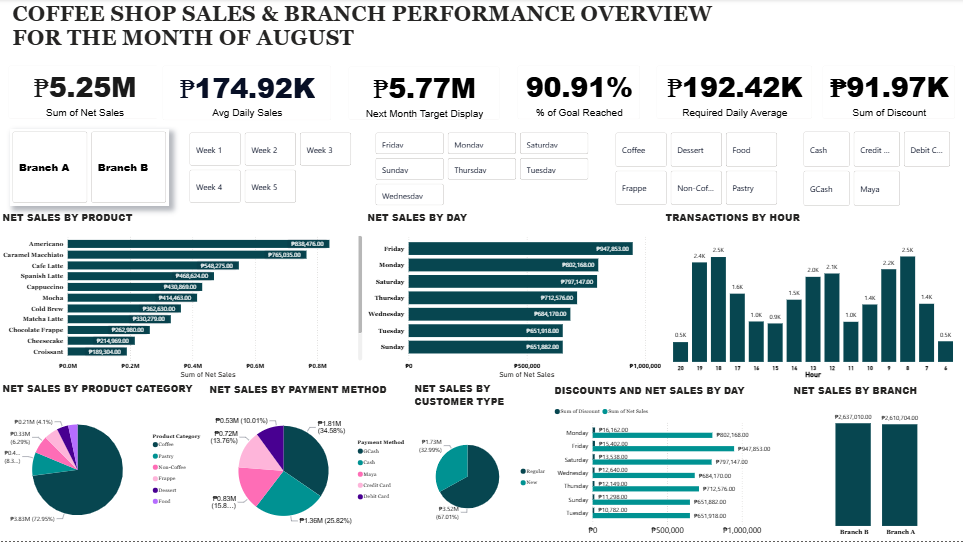

This screenshot's page, from the dashboard's own definition file:
{"tool":"powerbi","page":{"name":"Duplicate of Page 1","canvas":[1920,1080],"ordinal":1},"visuals":[{"type":"cardVisual","fields":{"Data":["Sum(Append1.Net Sales)"]},"box":[0,116.2,337.5,140],"z":0},{"type":"advancedSlicerVisual","fields":{"Values":["Append1.Branch"]},"box":[20,260,317.1,152.9],"z":1000},{"type":"cardVisual","fields":{"Data":["Append1.Next Month Target Display"]},"box":[678,118,335,140],"z":2000},{"type":"columnChart","title":"NET SALES BY BRANCH","fields":{"Category":["Append1.Branch"],"Y":["Sum(Append1.Net Sales)"]},"box":[1575.7,765.7,344.3,312.9],"z":3000},{"type":"barChart","title":"NET SALES BY PRODUCT","fields":{"Category":["Append1.Product Name"],"Y":["Sum(Append1.Net Sales)"]},"box":[0,420,726.7,341.7],"z":4000},{"type":"pieChart","title":"NET SALES BY PAYMENT METHOD","fields":{"Category":["Append1.Payment Method"],"Y":["Sum(Append1.Net Sales)"]},"box":[412,764,408,316],"z":5000},{"type":"columnChart","title":"TRANSACTIONS BY HOUR","fields":{"Category":["Append1.Hour"],"Y":["CountNonNull(Append1.Transaction ID)"]},"box":[1321.7,420,598.3,341.7],"z":6000},{"type":"advancedSlicerVisual","fields":{"Values":["Append1.Product Category"]},"box":[1221.7,261.7,334.3,155.7],"z":7000},{"type":"advancedSlicerVisual","fields":{"Values":["Append1.Payment Method"]},"box":[1596.7,260,303.3,158.3],"z":8000},{"type":"barChart","title":"NET SALES BY DAY","fields":{"Category":["Append1.Day of the Week"],"Y":["Sum(Append1.Net Sales)"]},"box":[726.7,420,595,341.7],"z":9000},{"type":"advancedSlicerVisual","fields":{"Values":["Append1.Week Number"]},"box":[373.3,261.7,334.3,150],"z":10000},{"type":"cardVisual","fields":{"Data":["Append1.% of Goal Reached"]},"box":[1014,116,278.8,141.2],"z":11000},{"type":"cardVisual","fields":{"Data":["Append1.Avg Daily Sales (Actual)"]},"box":[306,116,370,143.8],"z":12000},{"type":"cardVisual","fields":{"Data":["Append1.Required Daily Average"]},"box":[1292,116,344,140],"z":13000},{"type":"cardVisual","fields":{"Data":["Sum(Append1.Discount)"]},"box":[1622,116,298.8,140],"z":14000},{"type":"pieChart","title":"NET SALES BY PRODUCT CATEGORY","fields":{"Category":["Append1.Product Category"],"Y":["Sum(Append1.Net Sales)"]},"box":[0,762,412,316],"z":15000},{"type":"advancedSlicerVisual","fields":{"Values":["Append1.Day of the Week"]},"box":[743.3,261.7,435.7,155.7],"z":16000},{"type":"pieChart","title":"NET SALES BY CUSTOMER TYPE","fields":{"Category":["Append1.Customer Type"],"Y":["Sum(Append1.Net Sales)"]},"box":[820,762,280,316],"z":17000},{"type":"clusteredBarChart","title":"DISCOUNTS AND NET SALES BY DAY","fields":{"Category":["Append1.Day of the Week"],"Y":["Sum(Append1.Discount)","Sum(Append1.Net Sales)"]},"box":[1100,765.7,475.7,314.3],"z":18000},{"type":"textbox","box":[20,0,1880,146.7],"z":19000}]}

Visuals, with their boxes in screenshot pixels (x1, y1, x2, y2), scaled from the page's 1920x1080 canvas onto the 963x542 screenshot:
cardVisual - Sum(Append1.Net Sales): box(0, 58, 169, 129)
advancedSlicerVisual - Append1.Branch: box(10, 130, 169, 207)
cardVisual - Append1.Next Month Target Display: box(340, 59, 508, 129)
"NET SALES BY BRANCH" columnChart: box(790, 384, 962, 541)
"NET SALES BY PRODUCT" barChart: box(0, 211, 364, 382)
"NET SALES BY PAYMENT METHOD" pieChart: box(207, 383, 411, 541)
"TRANSACTIONS BY HOUR" columnChart: box(663, 211, 962, 382)
advancedSlicerVisual - Append1.Product Category: box(613, 131, 780, 209)
advancedSlicerVisual - Append1.Payment Method: box(801, 130, 953, 210)
"NET SALES BY DAY" barChart: box(364, 211, 663, 382)
advancedSlicerVisual - Append1.Week Number: box(187, 131, 355, 207)
cardVisual - Append1.% of Goal Reached: box(509, 58, 648, 129)
cardVisual - Append1.Avg Daily Sales (Actual): box(153, 58, 339, 130)
cardVisual - Append1.Required Daily Average: box(648, 58, 821, 128)
cardVisual - Sum(Append1.Discount): box(814, 58, 962, 128)
"NET SALES BY PRODUCT CATEGORY" pieChart: box(0, 382, 207, 541)
advancedSlicerVisual - Append1.Day of the Week: box(373, 131, 591, 209)
"NET SALES BY CUSTOMER TYPE" pieChart: box(411, 382, 552, 541)
"DISCOUNTS AND NET SALES BY DAY" clusteredBarChart: box(552, 384, 790, 541)
textbox: box(10, 0, 953, 74)
